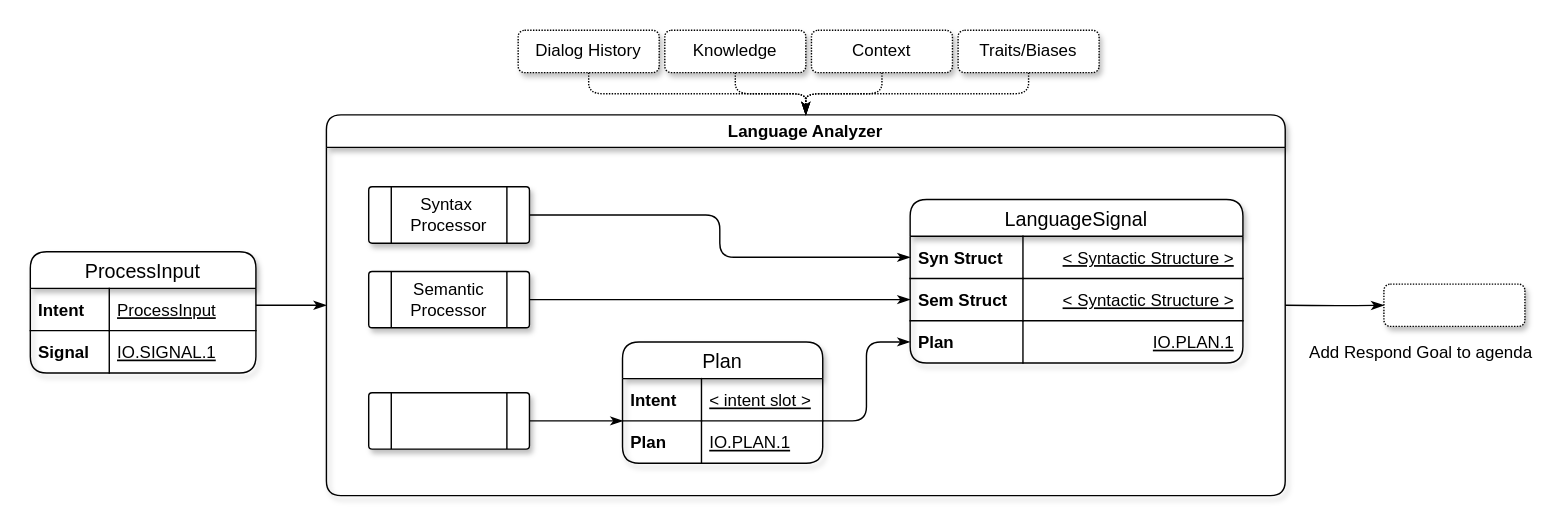
Some shapes in this 1558 by 530 pixel diagram are drawn without their labels. Each missing label, with the centre of its shape:
"Agenda" belongs at [1455,306].
"Plan Interpreter" belongs at [450,422].
